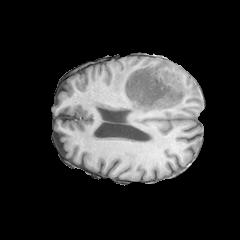glioma: (110, 60, 196, 114)
